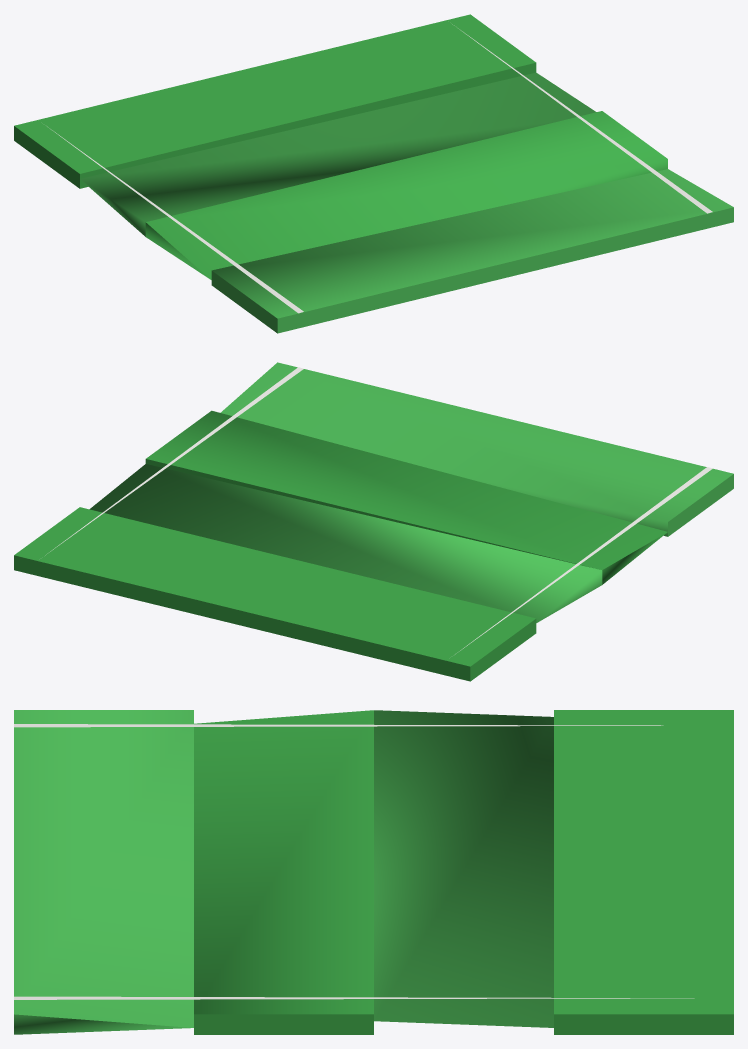
File: st_pitch_lod.glb
3 views of the same model, one above another, from view 1: azimuth 30°, elevation 25°; view 2: azimuth 150°, elevation 25°; view 3: azimuth 270°, elevation 25° (orthographic). The views are drawn at different scales.
Visible parts, largest first — view 1: st_pitch_lod; view 2: st_pitch_lod; view 3: st_pitch_lod.
Boxes of the visible parts, x1,y1,x2,y2 form: st_pitch_lod: (14, 14, 733, 333); st_pitch_lod: (14, 362, 733, 681); st_pitch_lod: (14, 710, 733, 1034).
Bounding box in the file's own units: 9.6 × 0.3083 × 9.6.
